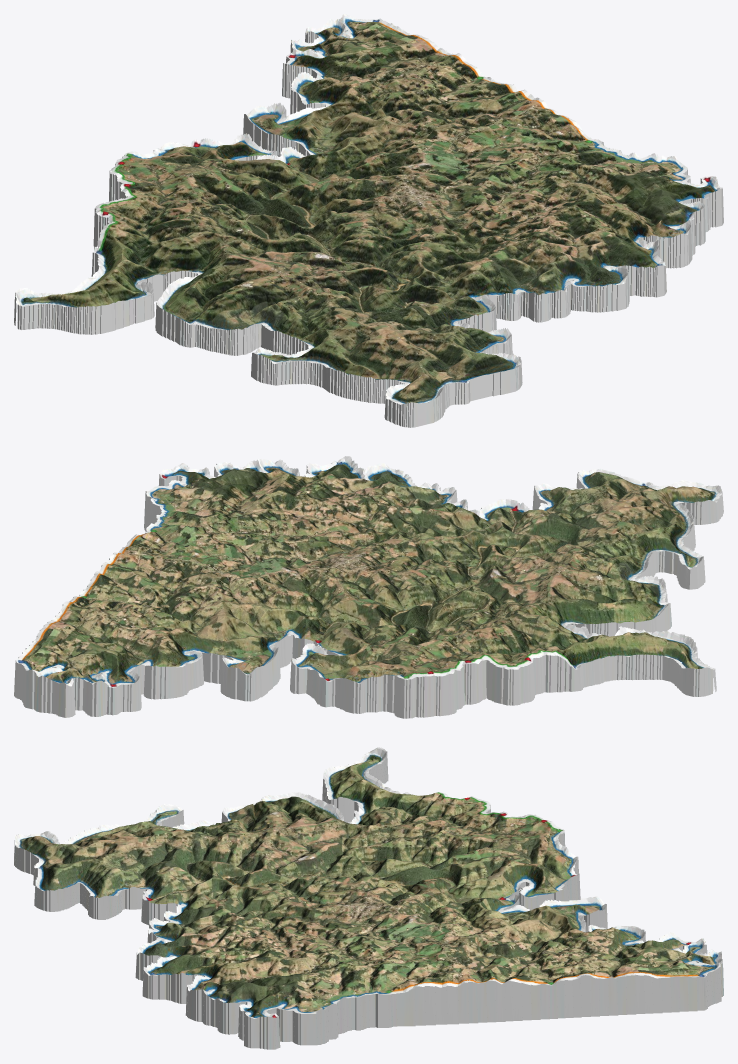
The picture shows the model from 3 angles, top to bottom: view 1: azimuth 30°, elevation 25°; view 2: azimuth 150°, elevation 25°; view 3: azimuth 270°, elevation 25°; orthographic projection. The views are drawn at different scales.
Size of the model in its own units: 1 by 0.0716 by 1.08.
1 material, 1 textured.
